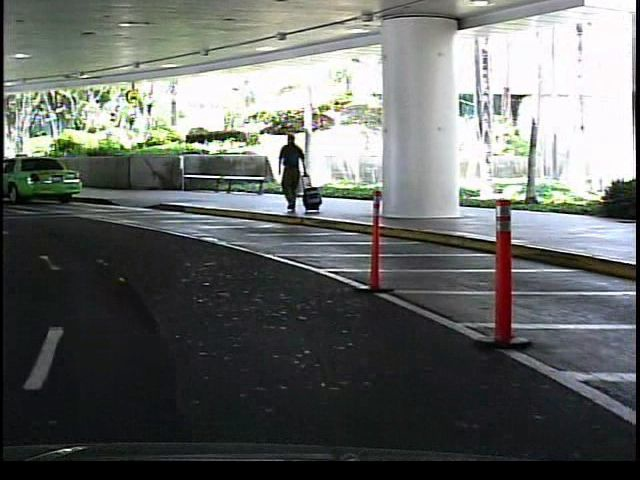person: (275, 128, 313, 219)
